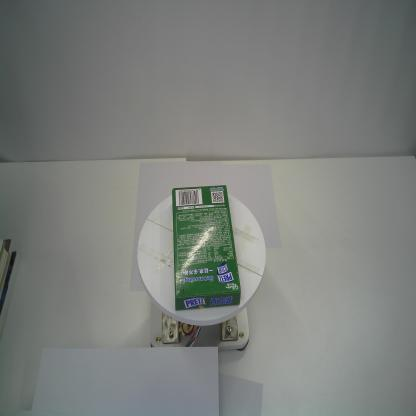Dessert: (172, 184, 242, 312)
